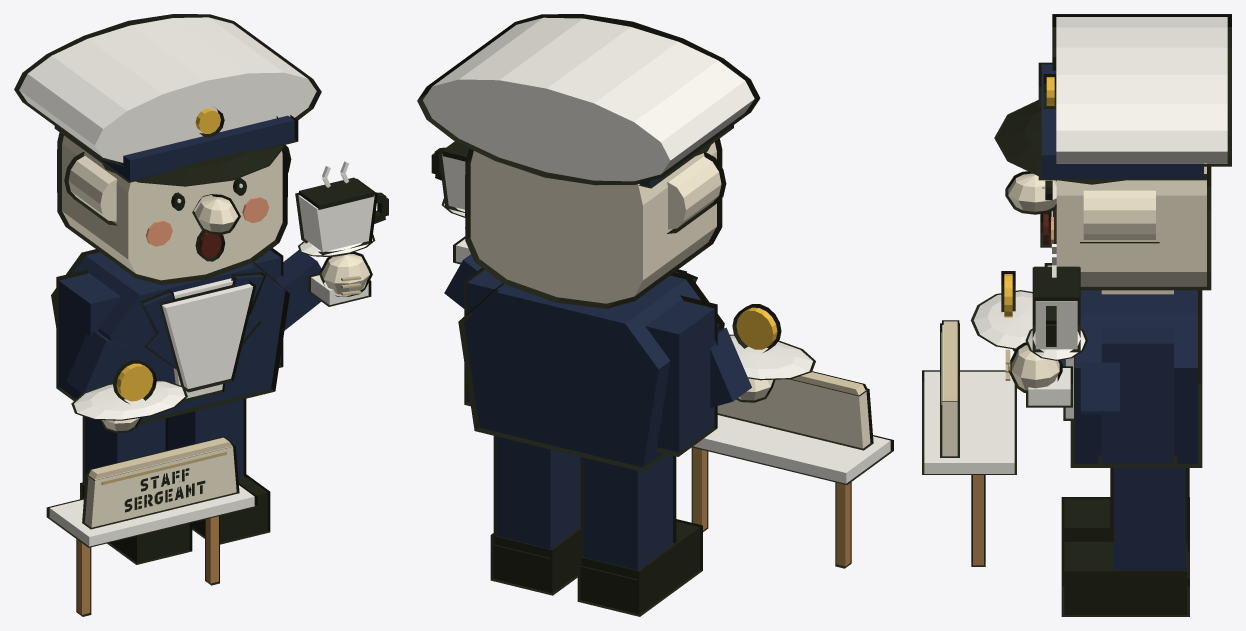
The picture shows the model from 3 angles, left to right: view 1: azimuth 30°, elevation 25°; view 2: azimuth 150°, elevation 25°; view 3: azimuth 270°, elevation 25°; orthographic projection. The views are drawn at different scales.
Visible parts, largest first — view 1: Link Marine; view 2: Link Marine; view 3: Link Marine.
Part boxes in pixels (left/top/right/bottom): Link Marine: left=14, top=14, right=388, bottom=616; Link Marine: left=417, top=14, right=893, bottom=616; Link Marine: left=922, top=14, right=1231, bottom=616.
Size of the model in its own units: 0.7725 by 0.9836 by 0.5155.
